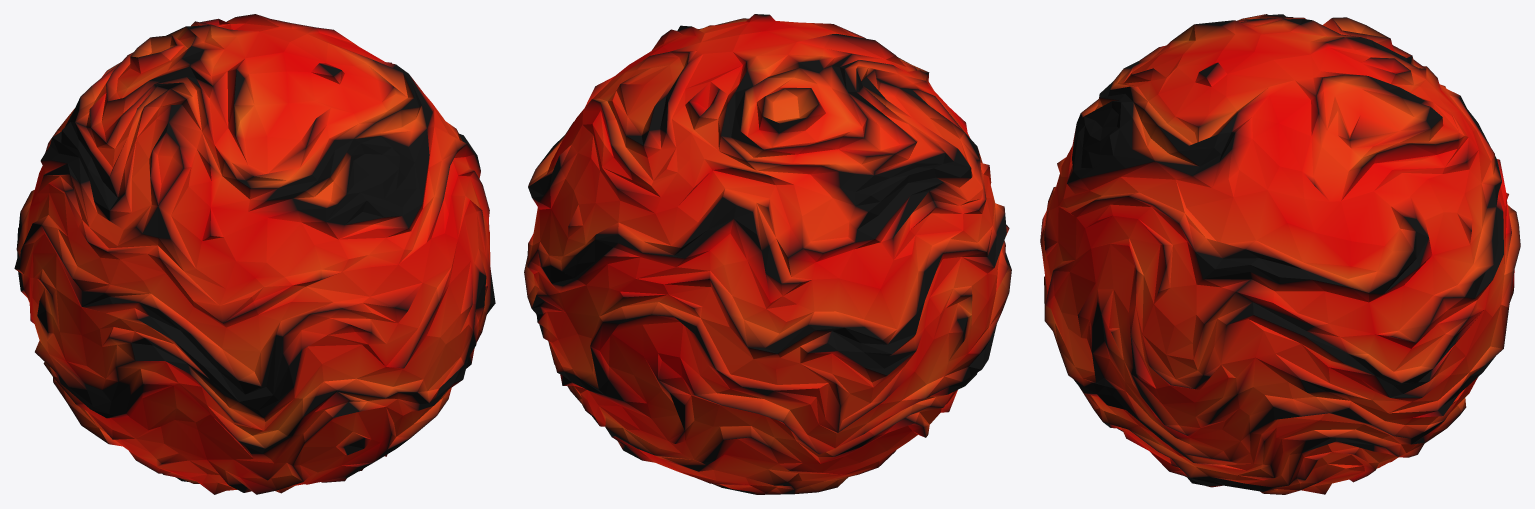
File: volcanic_planet_18.fbx
3 renders of one model, left to right at view 1: azimuth 30°, elevation 25°; view 2: azimuth 150°, elevation 25°; view 3: azimuth 270°, elevation 25°, orthographic.
Visible parts, largest first — view 1: filecache2; view 2: filecache2; view 3: filecache2.
Part boxes in pixels (x1,y1,x2,y2): filecache2: (14,14,495,494); filecache2: (524,14,1011,494); filecache2: (1040,14,1520,494).
Bounding box in the file's own units: 2.05 × 2.04 × 2.06.
